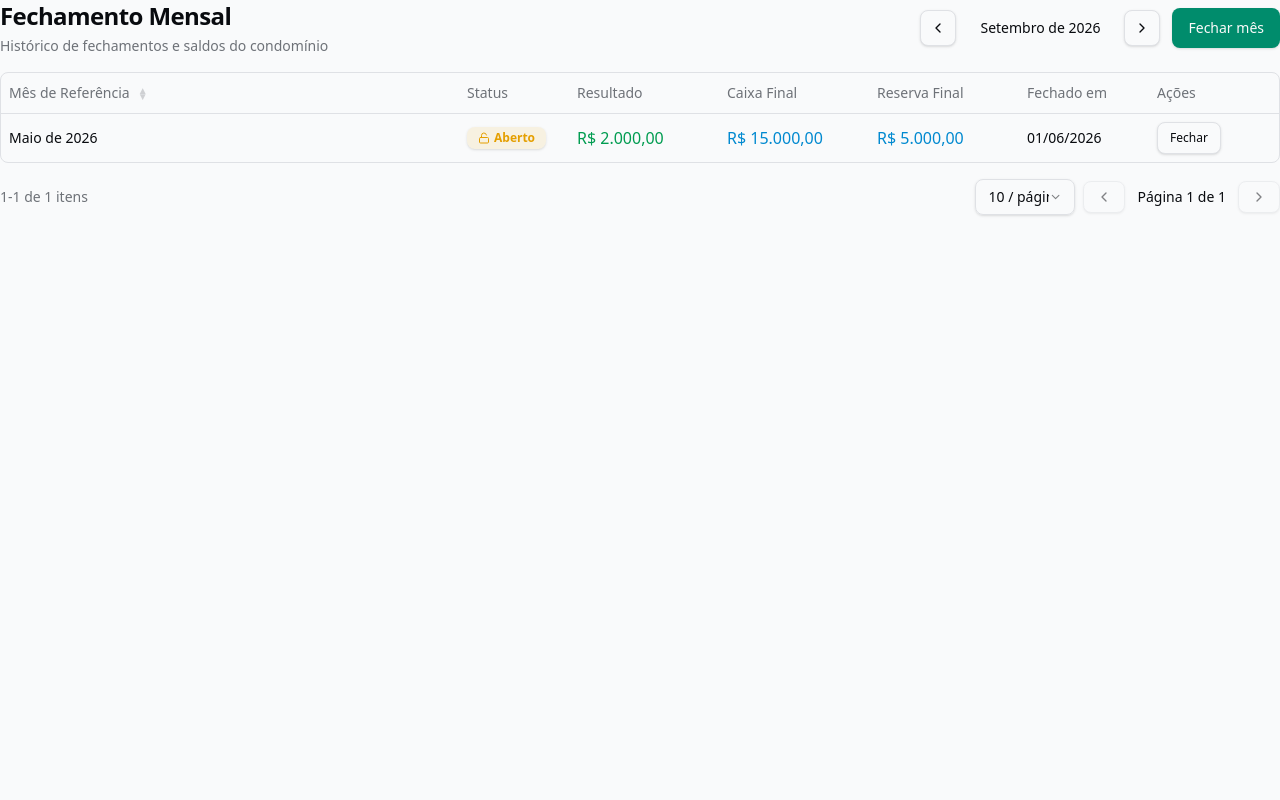
Scenario: MonthClosePage — close preflight › disables "Fechar mês" until the open-bills checkbox is confirmed
Click the button "Fechar": {"x": 1189, "y": 138} [1157, 122, 1221, 154]
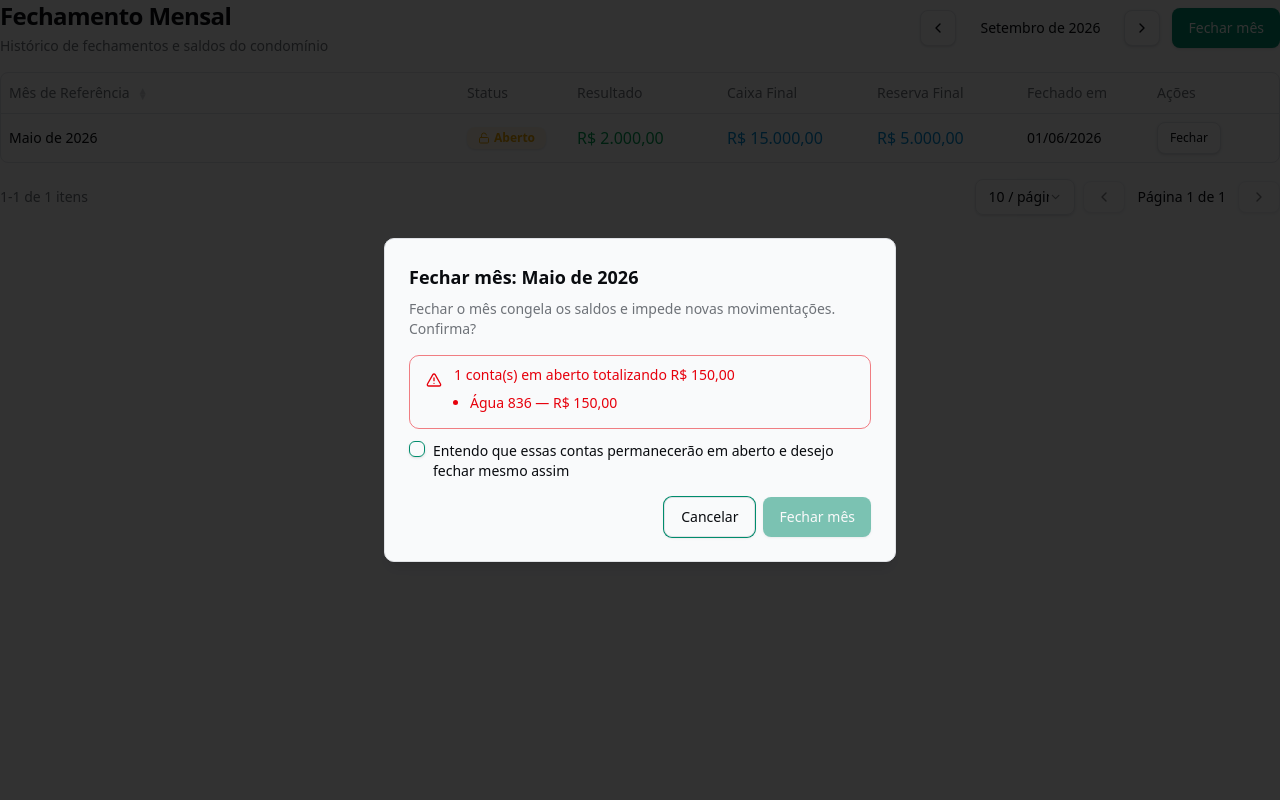
Expected: the button "Fechar mês" is disabled, [764, 497, 871, 537]
Click the checkbox named "entendo que essas contas permanecerão em aberto": {"x": 417, "y": 449} [409, 441, 425, 457]
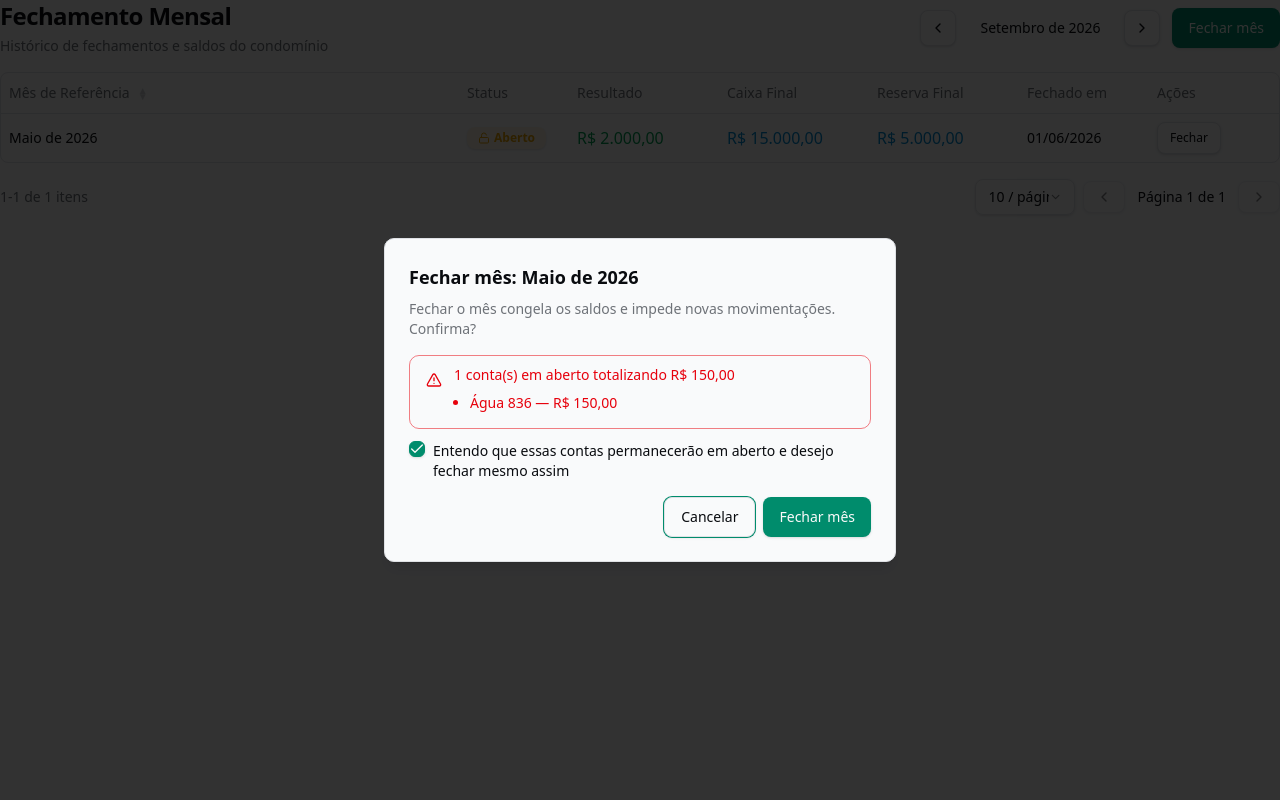
Expected: the button "Fechar mês" is enabled, [764, 497, 871, 537]
